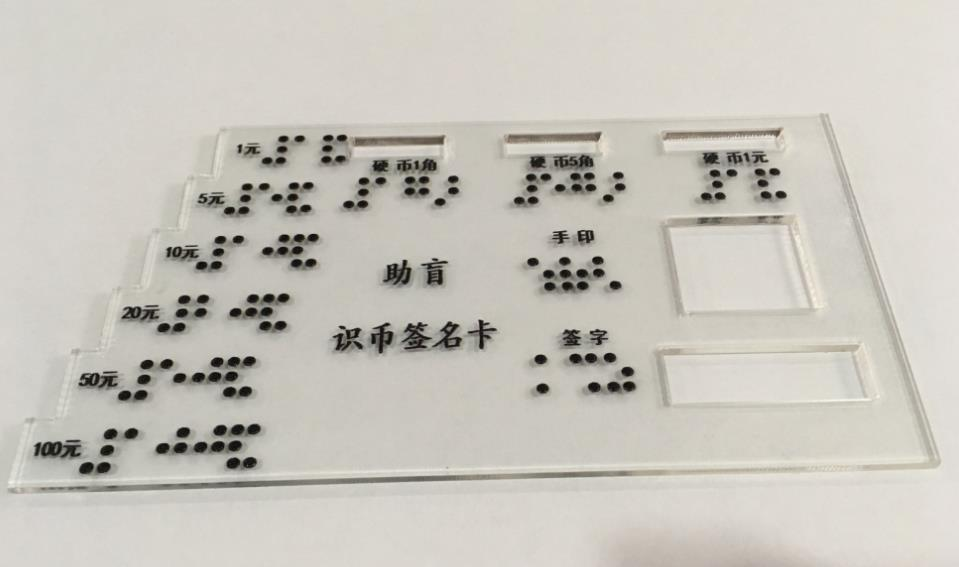Braille: (78, 426, 118, 475), (155, 425, 191, 473), (117, 358, 154, 401), (193, 424, 227, 470), (228, 423, 262, 469), (567, 351, 602, 393), (191, 356, 225, 398), (123, 427, 153, 474), (224, 355, 256, 398), (157, 293, 191, 333), (533, 353, 566, 393), (604, 352, 636, 393), (228, 293, 260, 332), (557, 255, 590, 292), (195, 234, 227, 271), (160, 357, 187, 400), (591, 254, 623, 290), (261, 292, 290, 330), (754, 167, 787, 200), (526, 256, 556, 292), (195, 293, 221, 334), (261, 233, 290, 269), (224, 181, 253, 216), (290, 233, 318, 268), (231, 234, 257, 271), (343, 176, 371, 210), (569, 171, 598, 203), (285, 181, 313, 213), (403, 175, 430, 208), (540, 172, 567, 205), (261, 134, 289, 165), (699, 169, 727, 200), (433, 174, 459, 207), (512, 173, 538, 206), (726, 167, 751, 201), (259, 181, 283, 216), (321, 133, 348, 164), (601, 170, 625, 203), (375, 176, 398, 209), (294, 134, 318, 165)
